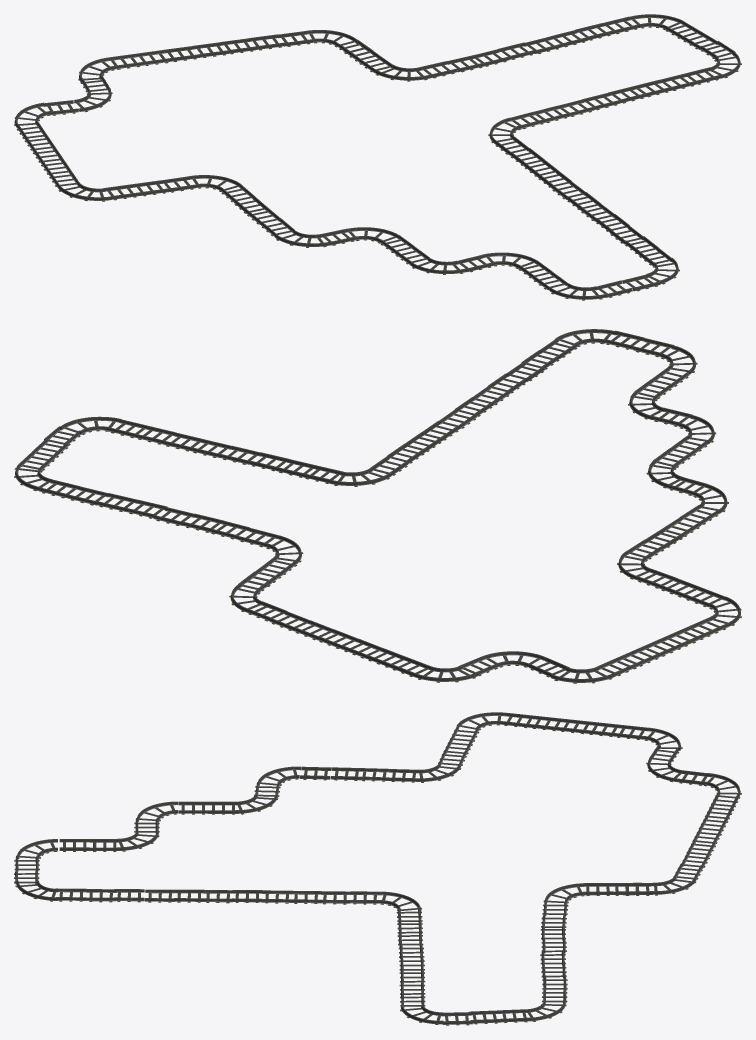
File: Rail.fbx
The picture shows the model from 3 angles, top to bottom: view 1: azimuth 30°, elevation 25°; view 2: azimuth 150°, elevation 25°; view 3: azimuth 270°, elevation 25°; orthographic projection. The views are drawn at different scales.
Bounding box in the file's own units: 7292 × 35.02 × 7211.
Materials: 1 (1 with a texture image).
